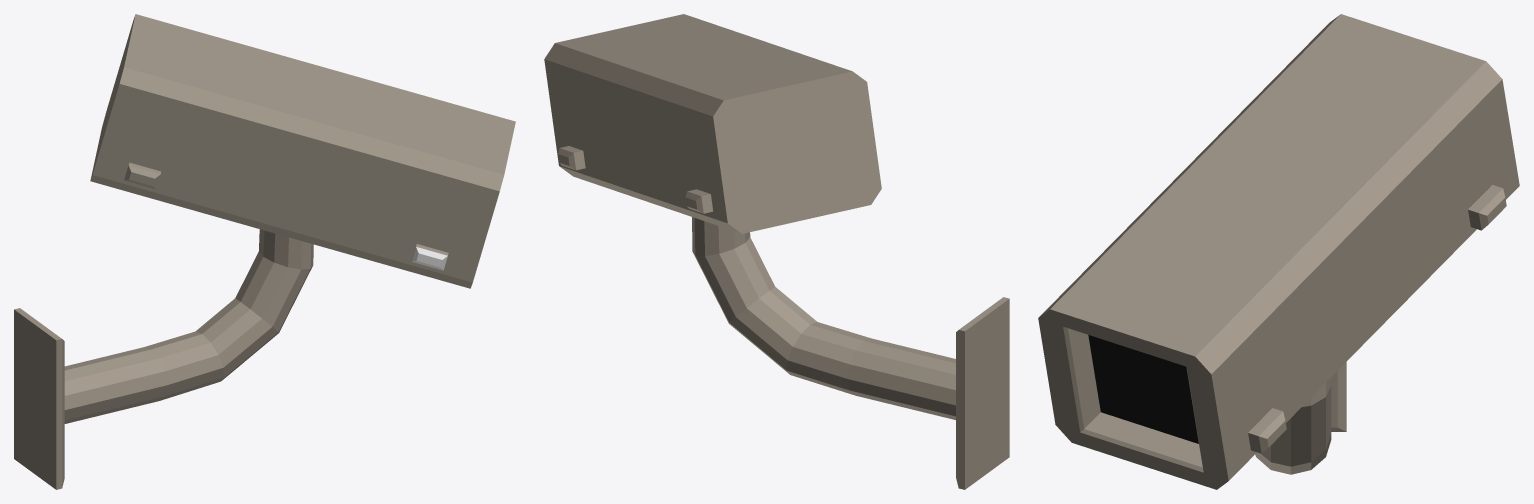
File: securityCamera.fbx
3 views of the same model, side by side, from view 1: azimuth 30°, elevation 25°; view 2: azimuth 150°, elevation 25°; view 3: azimuth 270°, elevation 25° (orthographic). The views are drawn at different scales.
Visible parts, largest first — view 1: camera, cameraPole, cameraBase; view 2: camera, cameraPole, cameraBase; view 3: camera, cameraPole, cameraBase.
Part boxes in pixels (<box>): camera: <box>90,14,515,288</box>; cameraPole: <box>64,229,313,423</box>; cameraBase: <box>14,308,64,489</box>; camera: <box>544,14,881,233</box>; cameraPole: <box>692,217,955,419</box>; cameraBase: <box>956,297,1009,489</box>; camera: <box>1038,14,1519,489</box>; cameraPole: <box>1255,377,1331,474</box>; cameraBase: <box>1331,362,1346,431</box>.
Size of the model in its own units: 1.7 by 1.33 by 1.2.
